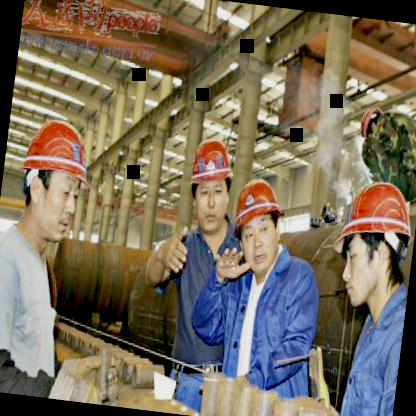helmet: (7, 105, 106, 256), (323, 166, 416, 314), (177, 128, 243, 232), (225, 172, 291, 274), (353, 100, 387, 143)
